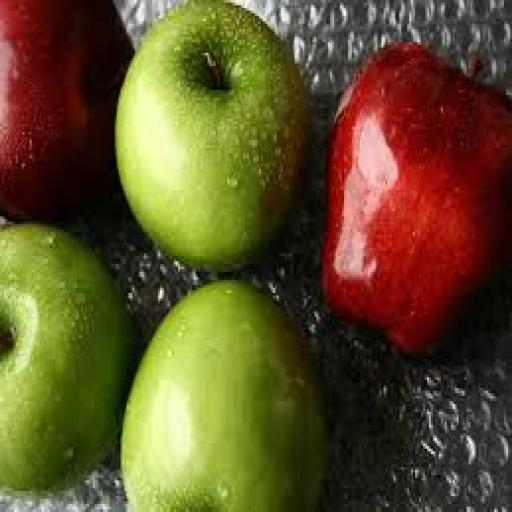Apple: (323, 43, 511, 353), (123, 283, 326, 511), (0, 225, 132, 493)
